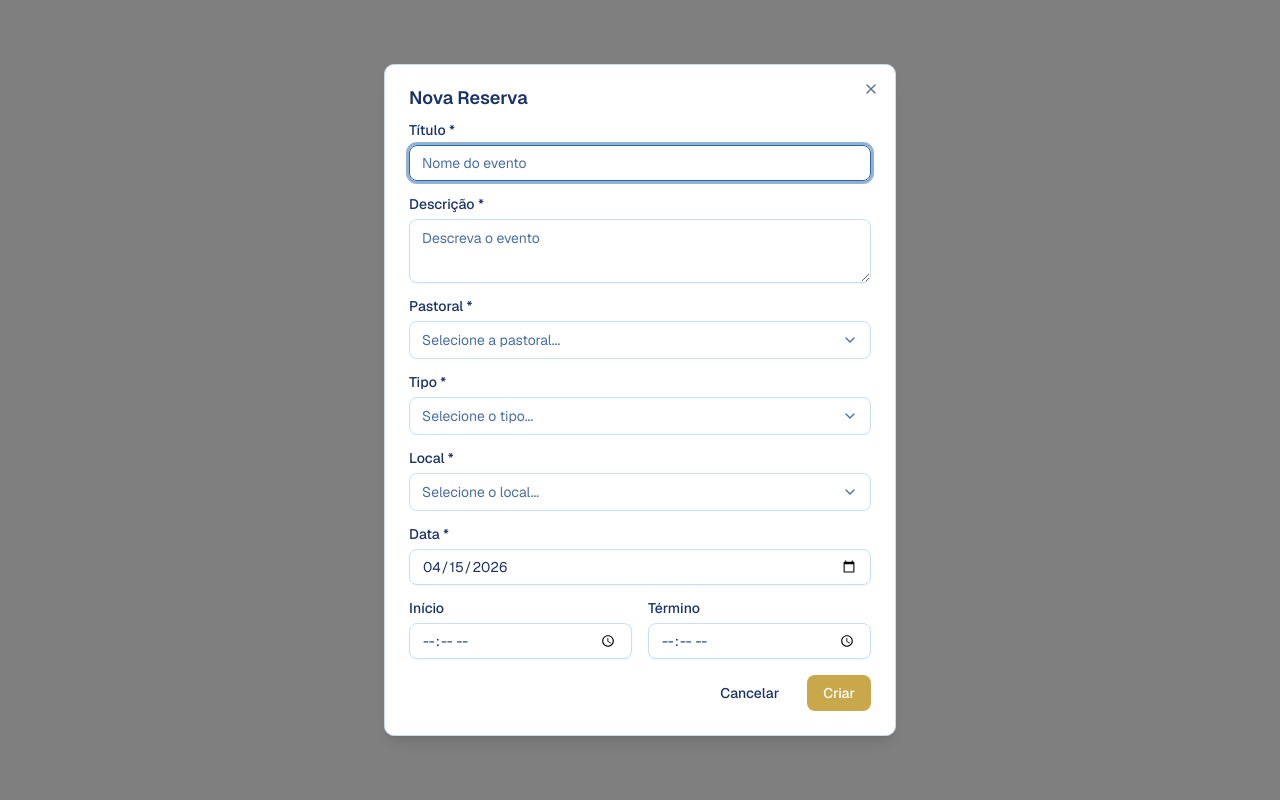
it: EventForm › shows validation error when dropdowns not selected
Step 1. Type "Novo Evento" into the field labelled "Título *" → (640, 163), box [409,145,871,181]
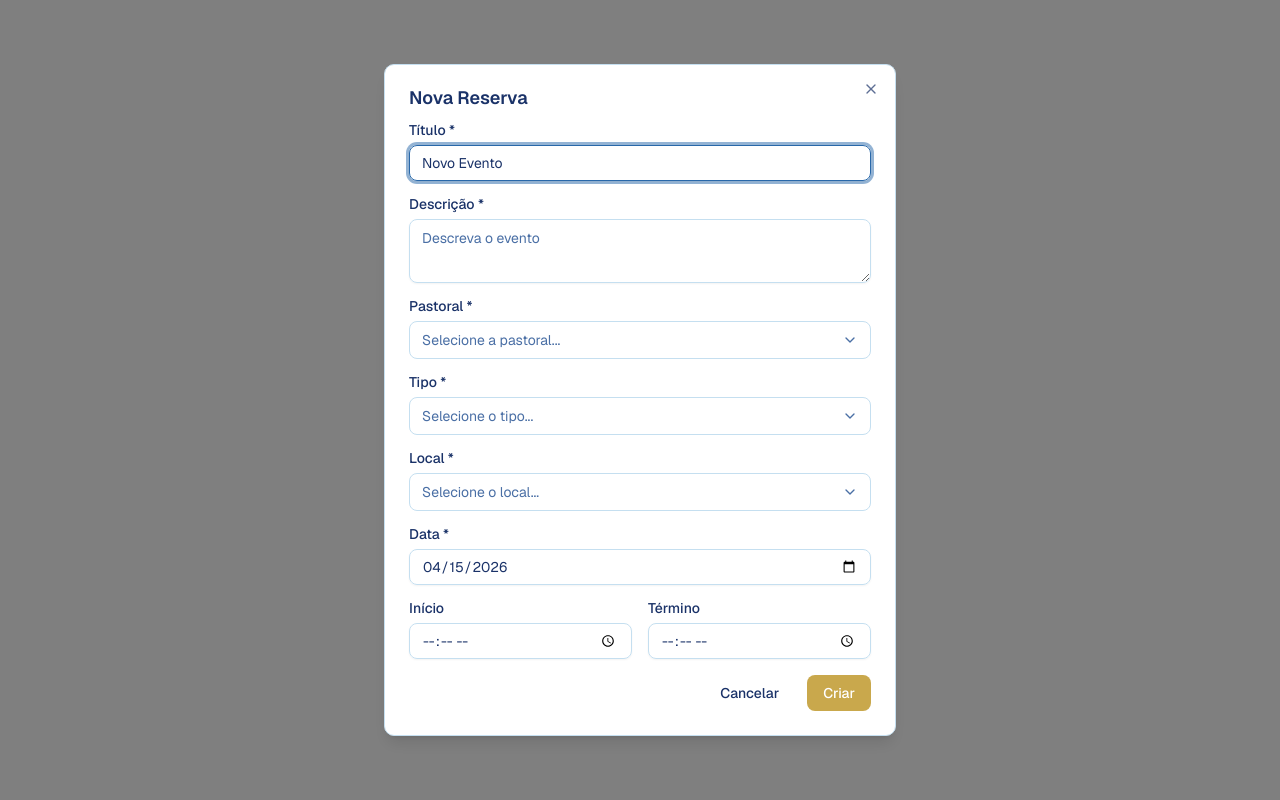
Step 2. Type "Descrição do evento" into the text box labelled "Descrição *" → (640, 251), box [409,219,871,283]
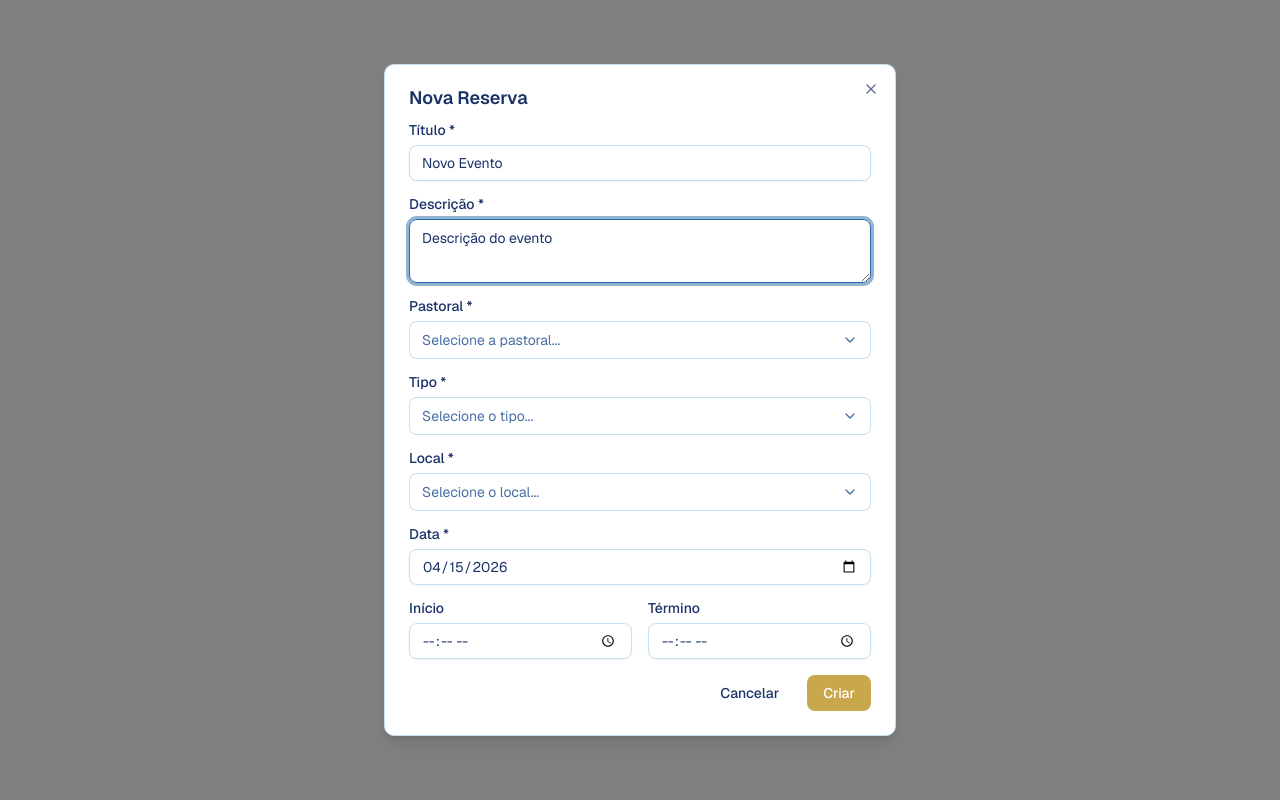
Step 3. Click the button "Criar" → (839, 693), box [807,675,871,711]
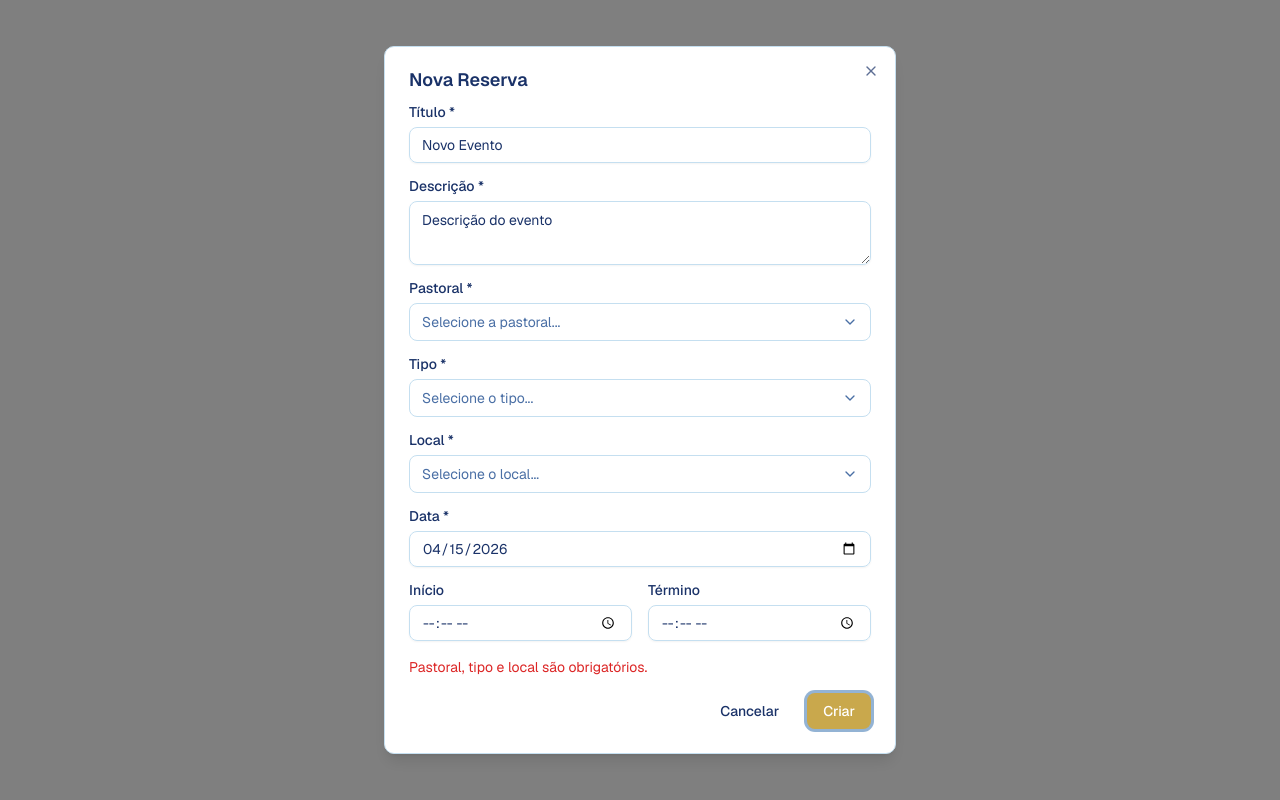
Now the text "Pastoral, tipo e local são obrigatórios." is shown, box [409,658,647,676]
